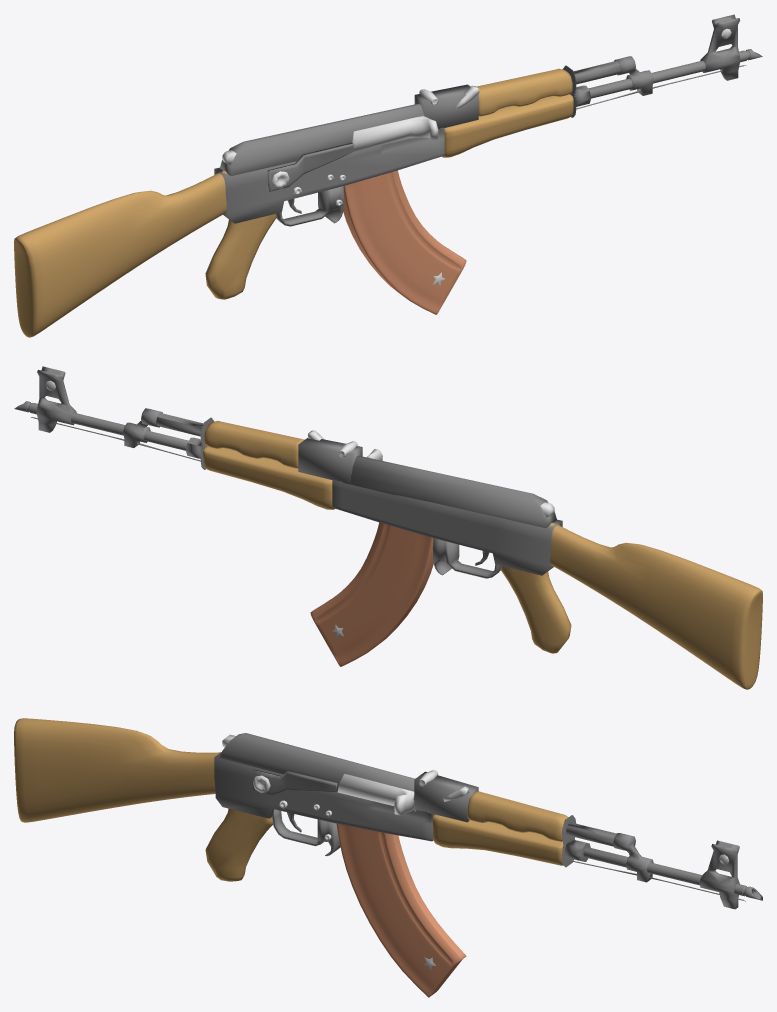
File: turret.fbx
3 views of the same model, one above another, from view 1: azimuth 30°, elevation 25°; view 2: azimuth 150°, elevation 25°; view 3: azimuth 330°, elevation 25° (orthographic).
Parts seen in each view (by area): view 1: Cube.011, Cube.014, Cube, Cube.001, Cube.003, Cube.013, Cube.004, Cube.017, Cube.002, Cube.012, Cube.019, Cube.007 (+3 smaller); view 2: Cube.011, Cube.014, Cube, Cube.001, Cube.003, Cube.013, Cube.004, Cube.002, Cube.012, Cube.007, Cube.015, Cube.009 (+1 smaller); view 3: Cube.011, Cube.014, Cube, Cube.001, Cube.003, Cube.013, Cube.004, Cube.002, Cube.012, Cube.017, Cube.007, Cube.019 (+3 smaller).
Part boxes in pixels (x1,y1,x2,y2): Cube.011: [14, 170, 227, 337]; Cube.014: [343, 170, 466, 314]; Cube: [214, 127, 444, 223]; Cube.001: [220, 103, 424, 175]; Cube.003: [442, 94, 573, 157]; Cube.013: [205, 214, 276, 299]; Cube.004: [476, 68, 572, 116]; Cube.017: [351, 115, 438, 151]; Cube.002: [414, 84, 478, 128]; Cube.012: [700, 14, 740, 80]; Cube.019: [267, 142, 354, 191]; Cube.007: [588, 49, 762, 98]; Cube.011: [549, 522, 762, 689]; Cube.014: [310, 522, 433, 666]; Cube: [332, 479, 562, 575]; Cube.001: [351, 455, 556, 528]; Cube.003: [203, 446, 334, 509]; Cube.013: [500, 566, 571, 653]; Cube.004: [204, 420, 304, 468]; Cube.002: [298, 438, 362, 484]; Cube.012: [36, 366, 76, 432]; Cube.007: [14, 401, 188, 450]; Cube.015: [433, 538, 500, 578]; Cube.009: [123, 408, 162, 447]; Cube.011: [14, 718, 220, 822]; Cube.014: [336, 823, 466, 997]; Cube: [214, 752, 433, 841]; Cube.001: [220, 733, 416, 811]; Cube.003: [432, 814, 563, 865]; Cube.013: [205, 808, 273, 881]; Cube.004: [467, 791, 568, 841]; Cube.002: [414, 771, 478, 822]; Cube.012: [699, 840, 739, 909]; Cube.017: [337, 774, 414, 815]; Cube.007: [583, 847, 762, 900]; Cube.019: [252, 769, 338, 795].
Size of the model in its own units: 0.5013 by 0.1426 by 0.0347.
